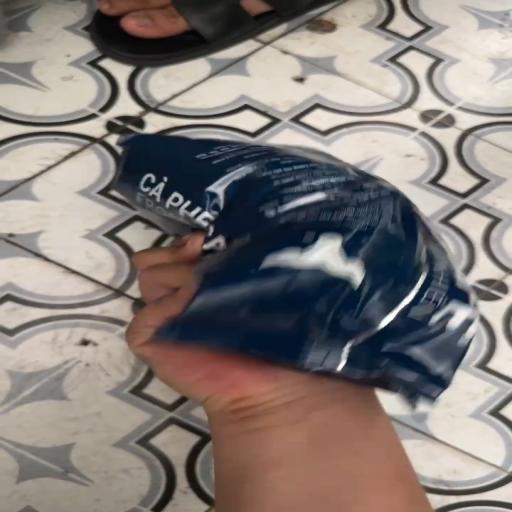cafe_hat: (115, 135, 476, 403)
